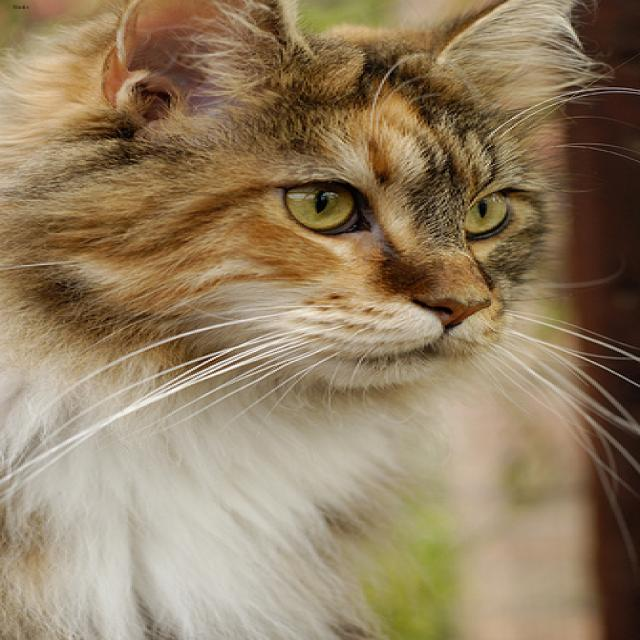Maine_Coon: (35, 0, 606, 398)
